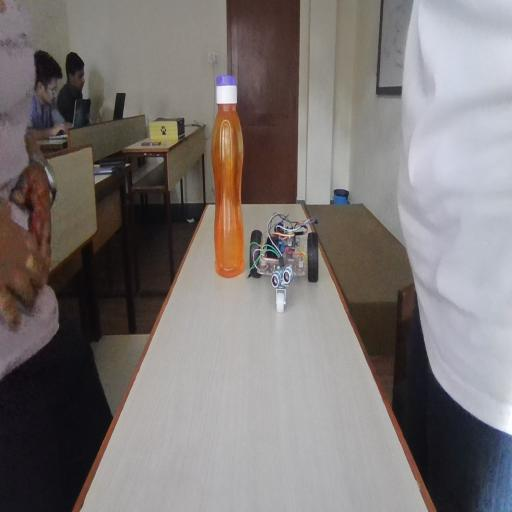Bottle: (208, 43, 241, 270)
car: (258, 211, 322, 309)
